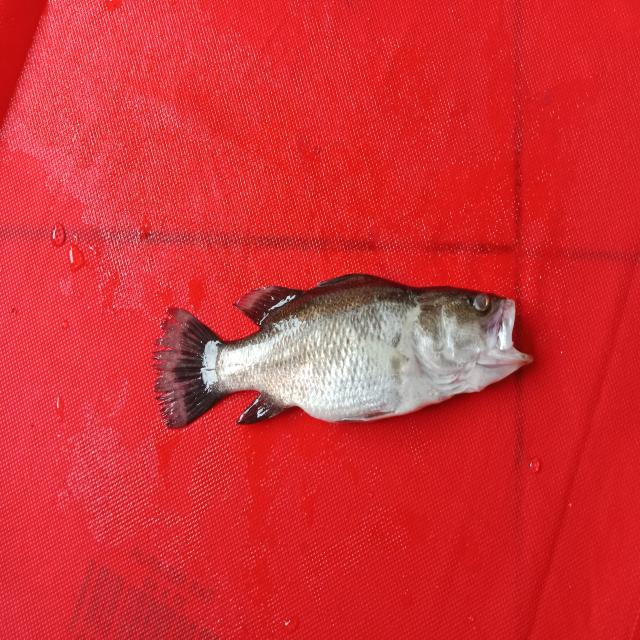ikan: (137, 230, 547, 457)
